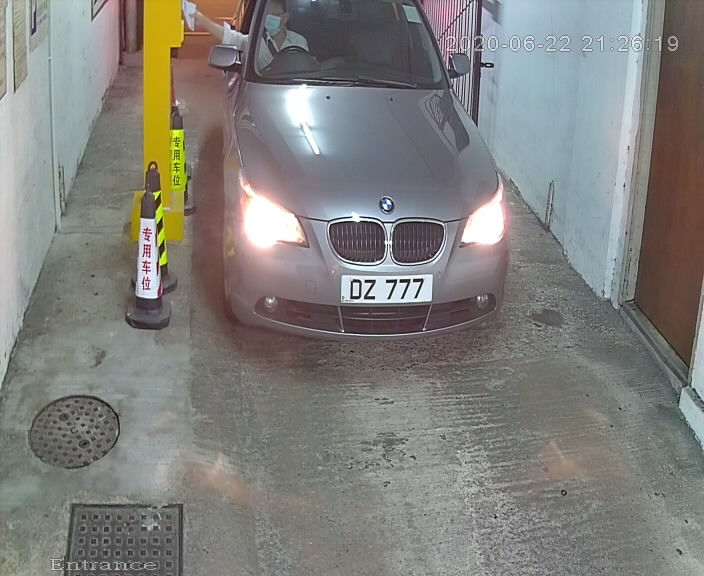privatecar: (195, 1, 528, 360)
